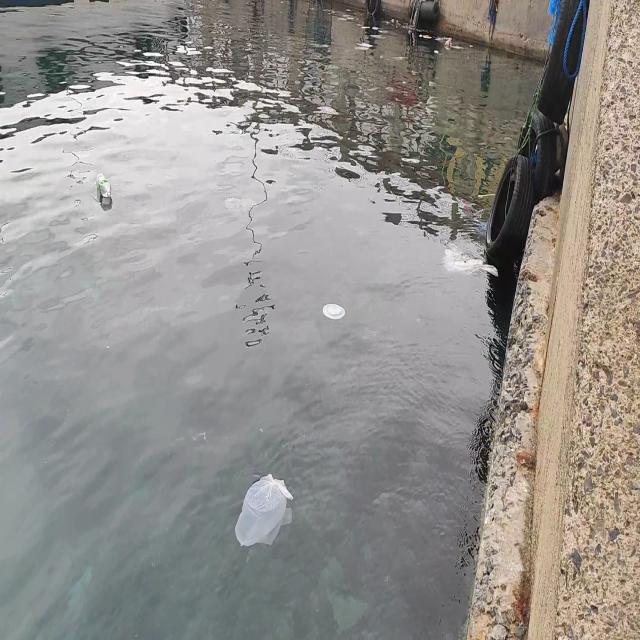Plastic: (320, 299, 347, 322)
Plastic bag: (233, 468, 297, 554), (440, 243, 500, 283)
Plastic bottle: (95, 168, 113, 202)
